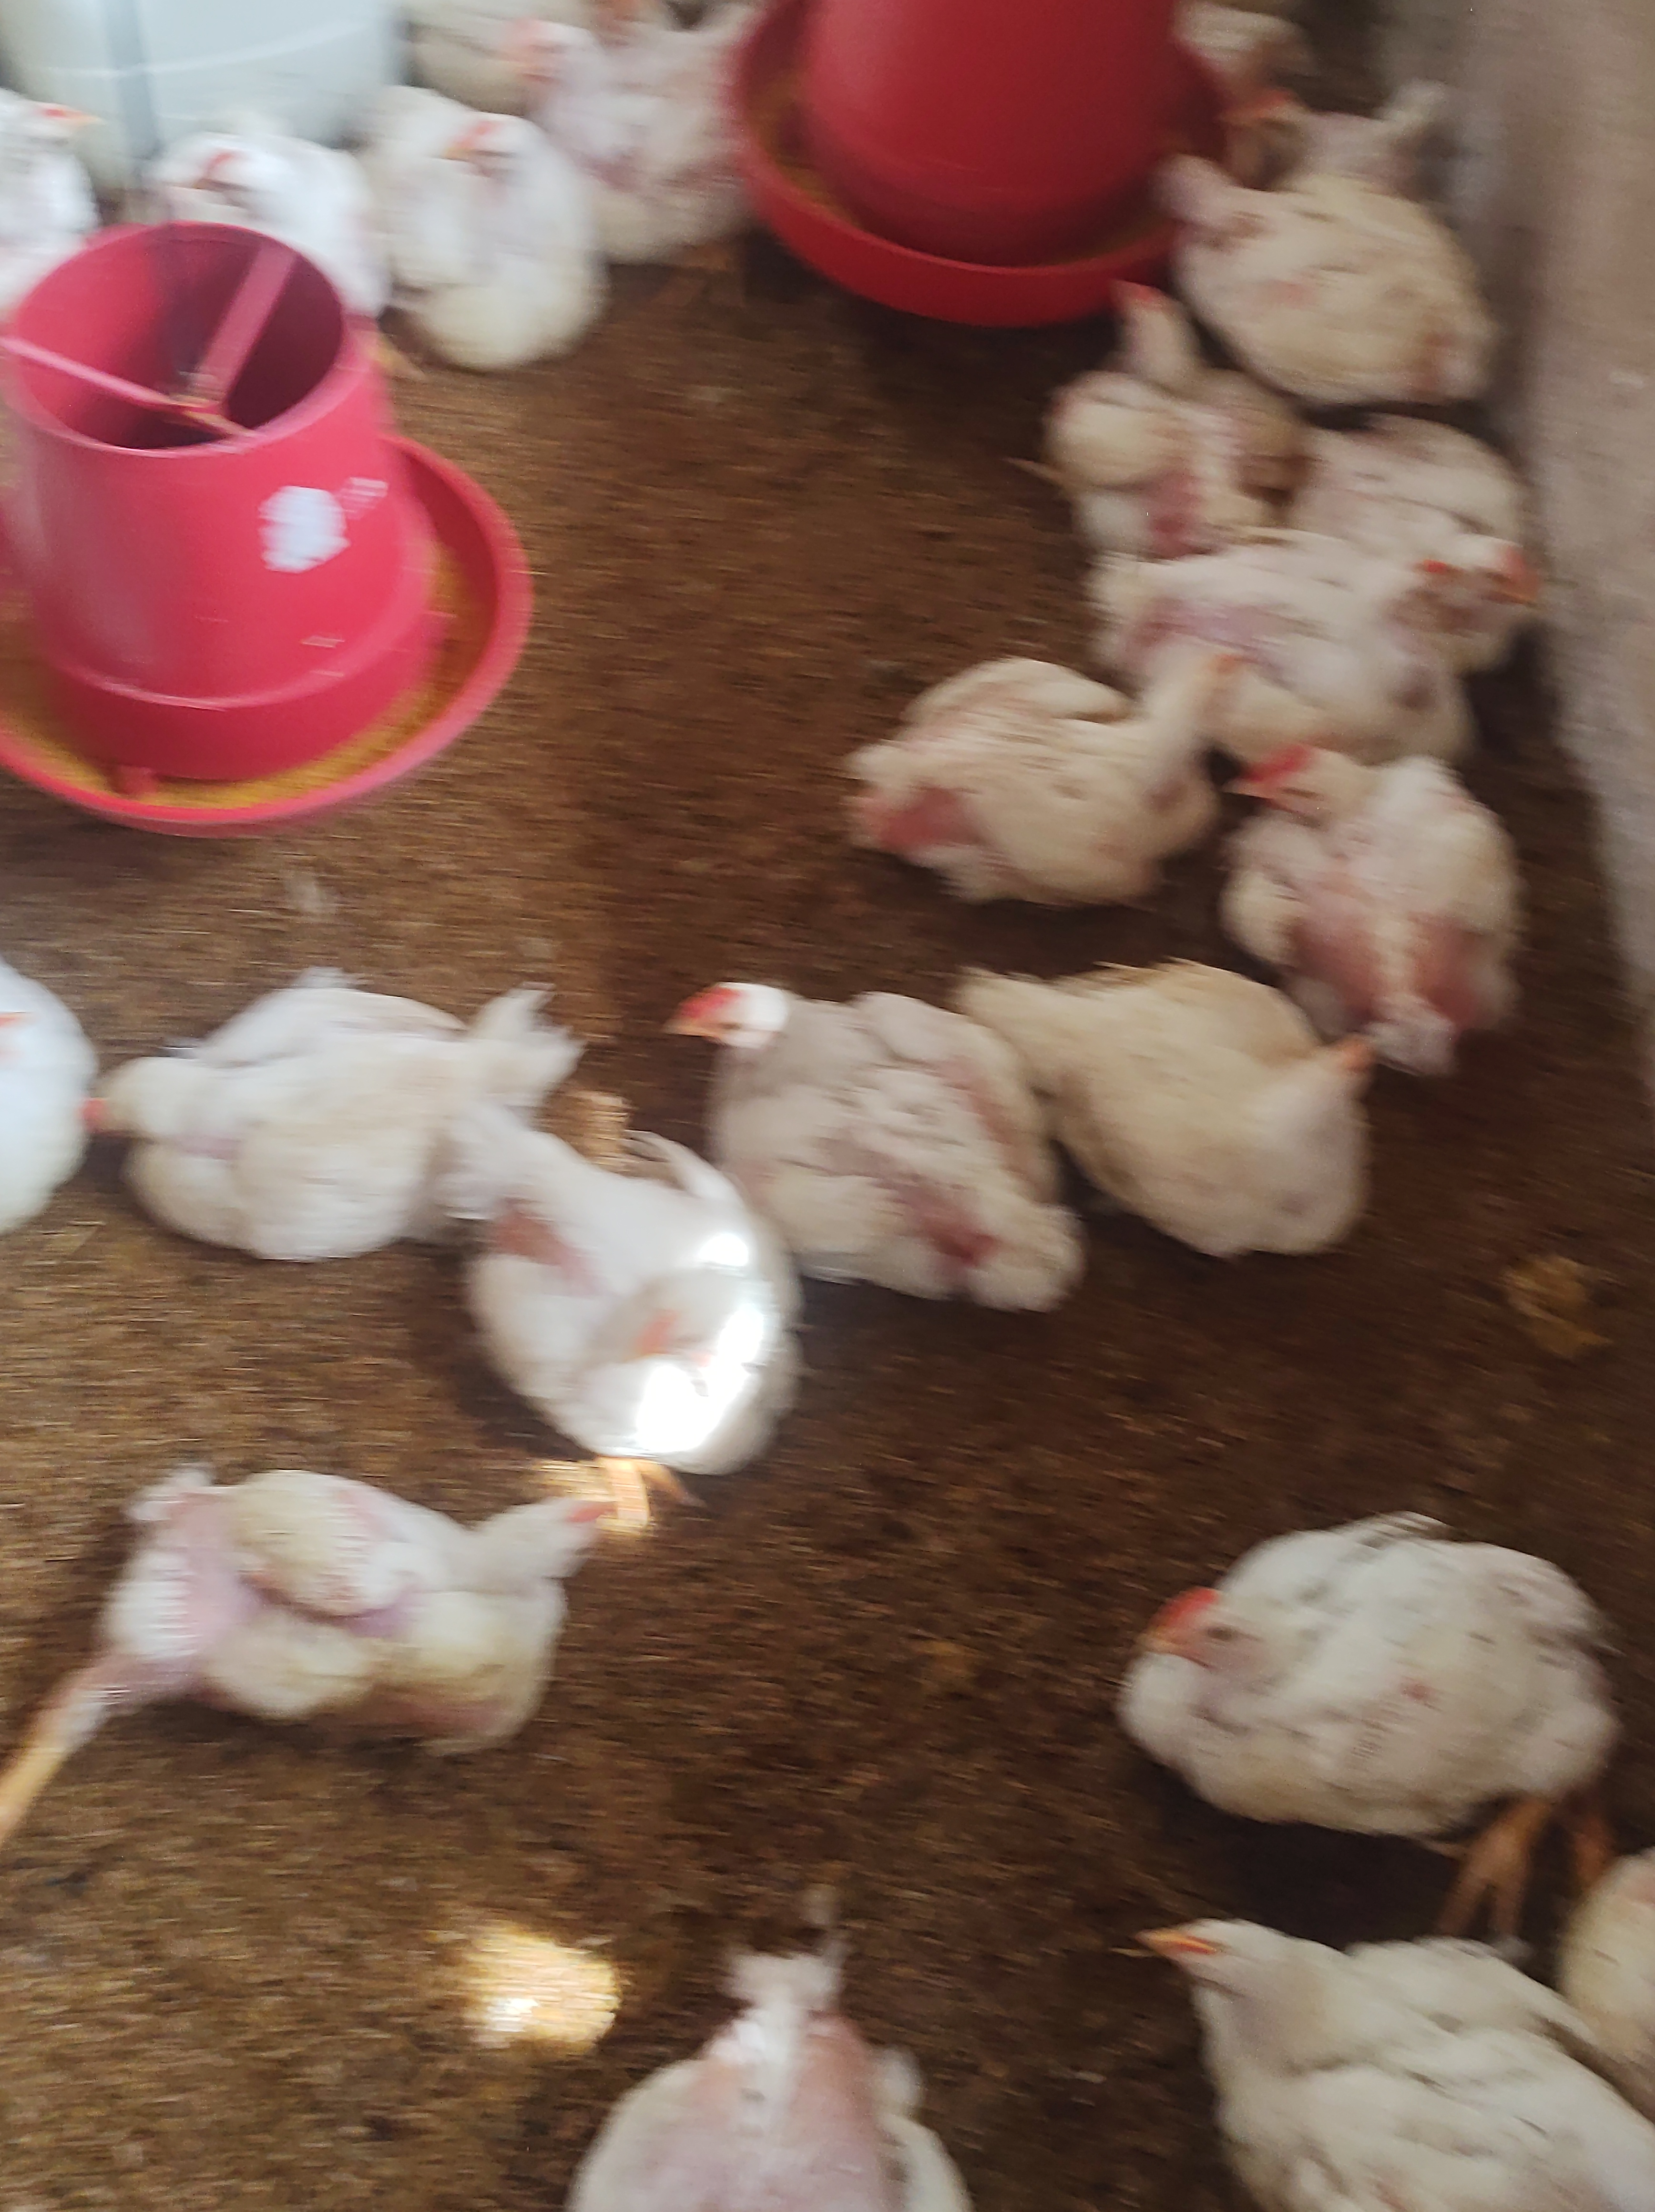Pollos: (0, 1440, 711, 1824), (570, 936, 1055, 1349), (1095, 1897, 1655, 2212), (1158, 1529, 1627, 1868), (424, 1120, 812, 1513), (71, 946, 518, 1280), (954, 946, 1386, 1271), (560, 1902, 993, 2212), (867, 617, 1220, 915), (1168, 162, 1516, 416), (1201, 751, 1497, 1049), (1106, 508, 1443, 753), (132, 106, 391, 350), (515, 16, 784, 240), (1344, 426, 1580, 676), (384, 82, 608, 344), (1080, 273, 1267, 515), (0, 37, 116, 383), (0, 916, 108, 1259), (1570, 1795, 1655, 2158), (1217, 77, 1339, 174), (586, 0, 687, 64)
